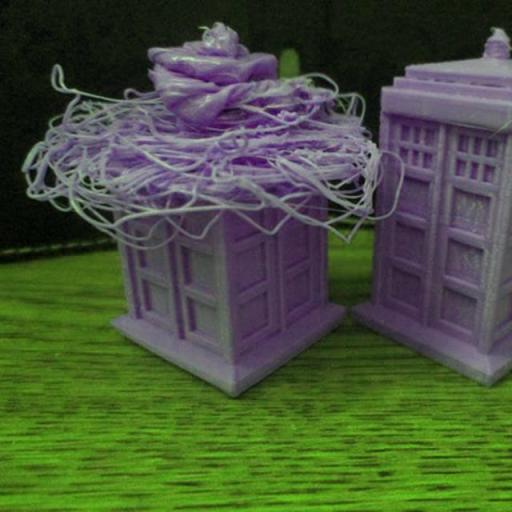spaghetti: (18, 16, 412, 258)
